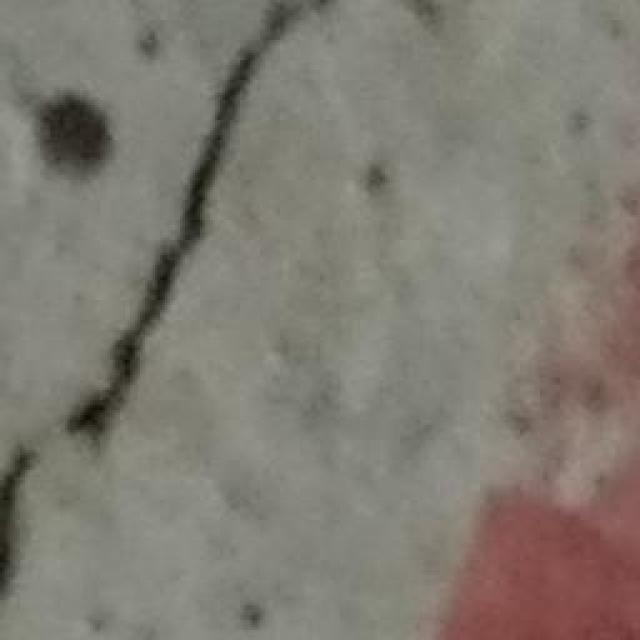Annular: (22, 76, 116, 199)
Diagonal: (125, 0, 353, 438), (0, 372, 131, 640)
